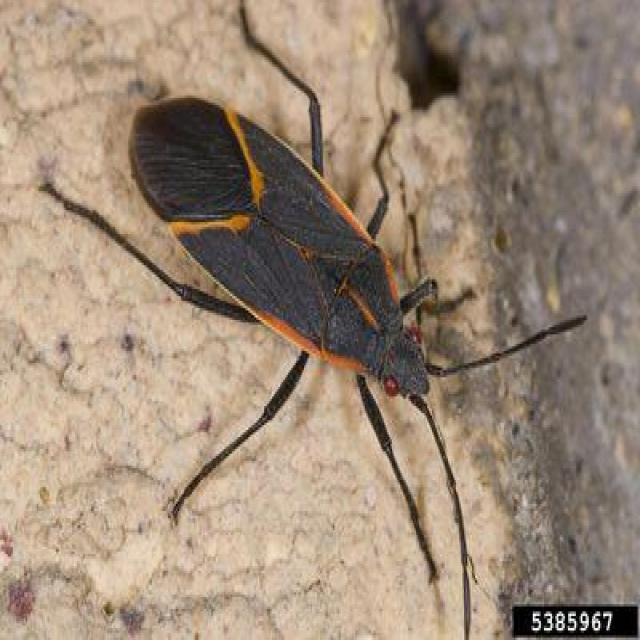Miridae-Adult-: (61, 2, 594, 556)
